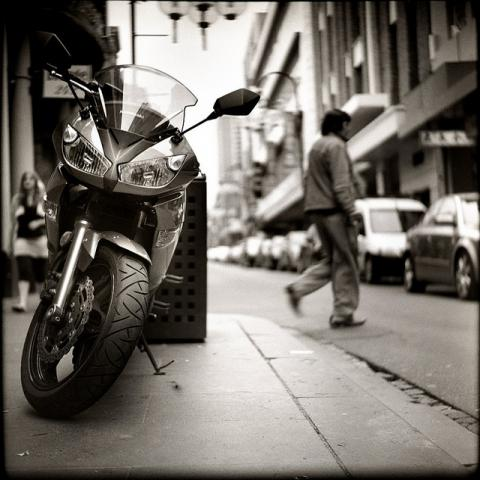car: (404, 193, 480, 300), (354, 197, 428, 283), (276, 230, 309, 270), (240, 236, 264, 266), (268, 236, 284, 270), (206, 245, 230, 262), (226, 241, 244, 263), (261, 238, 271, 268)
motorcycle: (19, 33, 259, 422)
